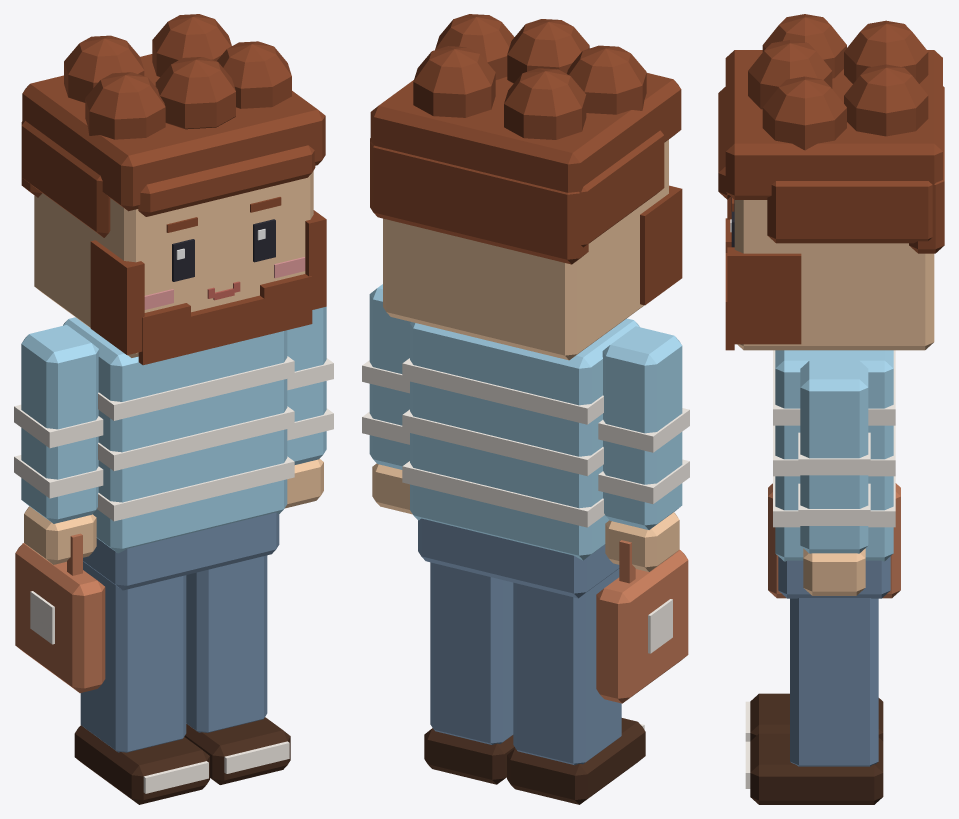
Rendered from CatCafe_NPC_Customer_D.fbx.
The picture shows the model from 3 angles, left to right: view 1: azimuth 30°, elevation 25°; view 2: azimuth 150°, elevation 25°; view 3: azimuth 270°, elevation 25°; orthographic projection. The views are drawn at different scales.
Parts seen in each view (by area): view 1: CatCafe_NPC_Customer_D; view 2: CatCafe_NPC_Customer_D; view 3: CatCafe_NPC_Customer_D.
Boxes of the visible parts, x1,y1,x2,y2 form: CatCafe_NPC_Customer_D: [14, 14, 333, 804]; CatCafe_NPC_Customer_D: [362, 14, 689, 804]; CatCafe_NPC_Customer_D: [718, 14, 944, 804].
Size of the model in its own units: 2.25 by 5.42 by 1.53.
Materials: 1 (1 with a texture image).
